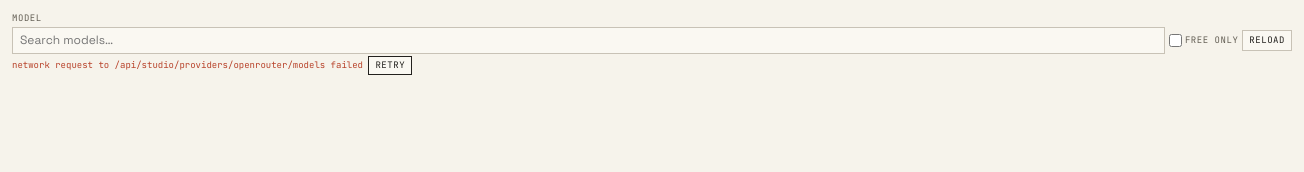
Test: the model picker states › reports a failed listing and retries it
Expected: the message with class "model-picker-error" shows "network request", [12,59,363,71]
Click the button with class "model-picker-action" at (390, 65), box [368,56,412,74]
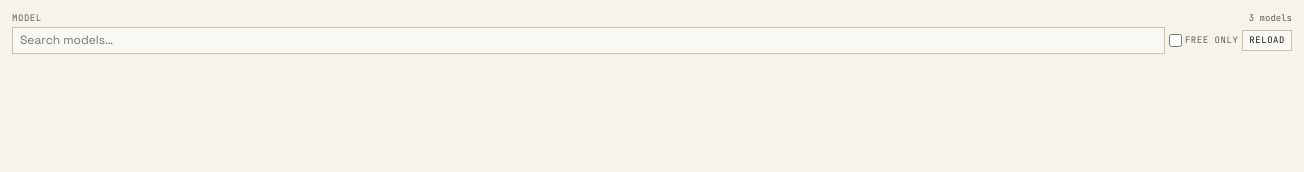
Now the text "3 models" is shown, box [1249,12,1292,25]
